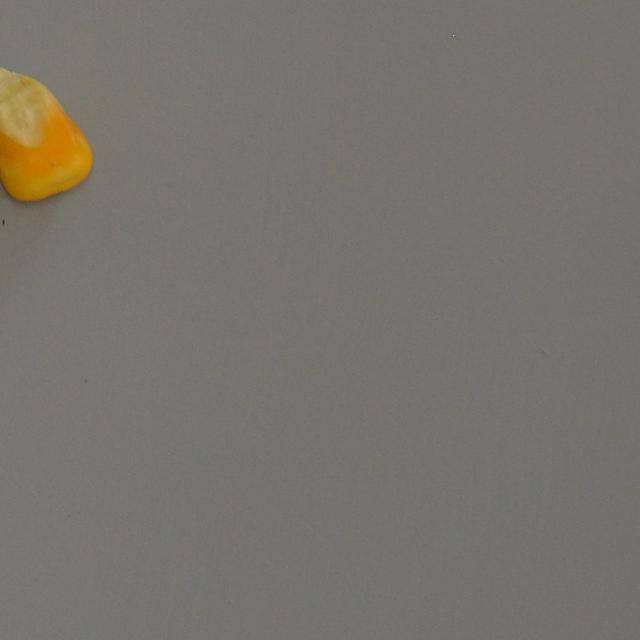entero: (0, 63, 96, 206)
